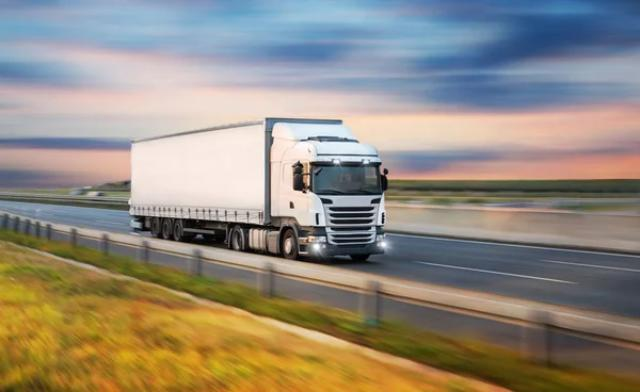truck: (130, 116, 388, 262)
